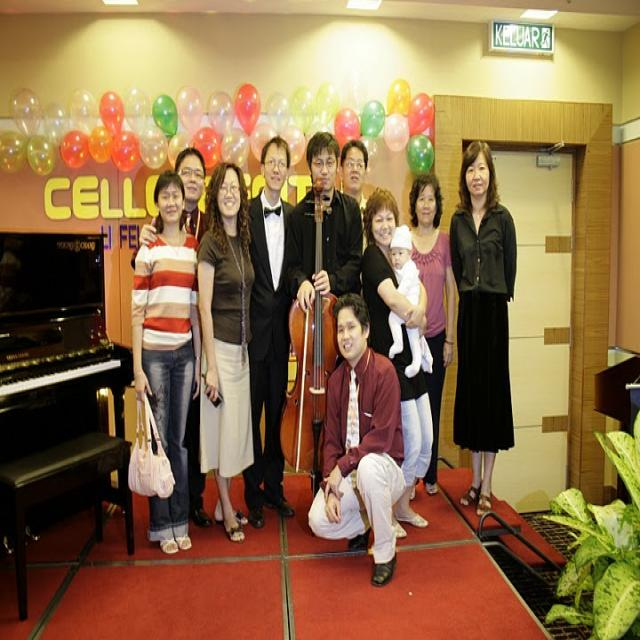cello: (279, 181, 348, 479)
